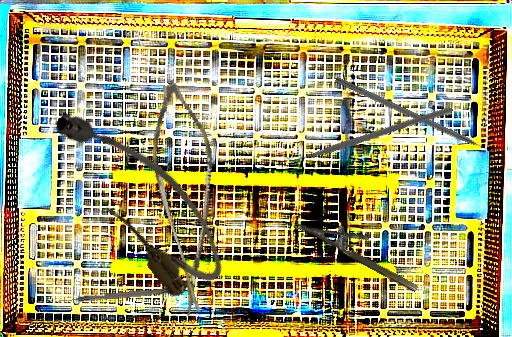Cannula: (41, 83, 239, 307)
Chopper: (280, 42, 454, 221)
Hook Surgical: (333, 76, 500, 160), (56, 287, 180, 304)
Micro Scissor: (121, 78, 256, 317)
Needle Holder: (294, 203, 428, 294)
